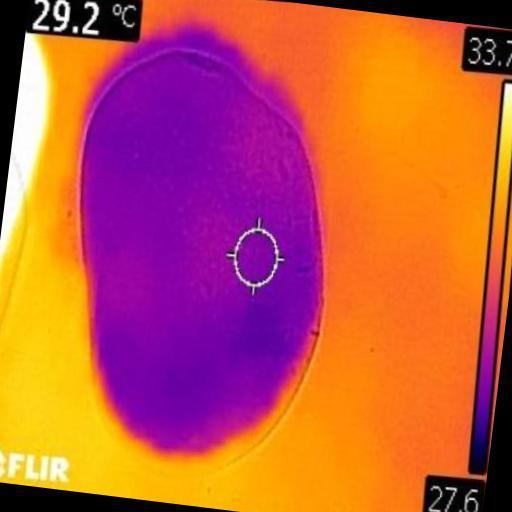alphanso: (81, 47, 322, 466)
